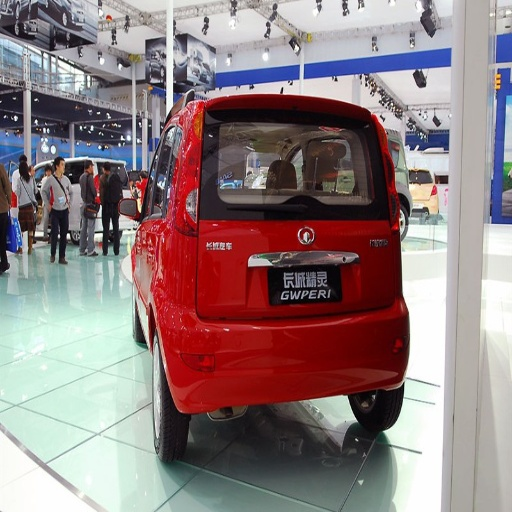back_bumper: (163, 287, 409, 411)
trunk: (156, 202, 390, 355)
